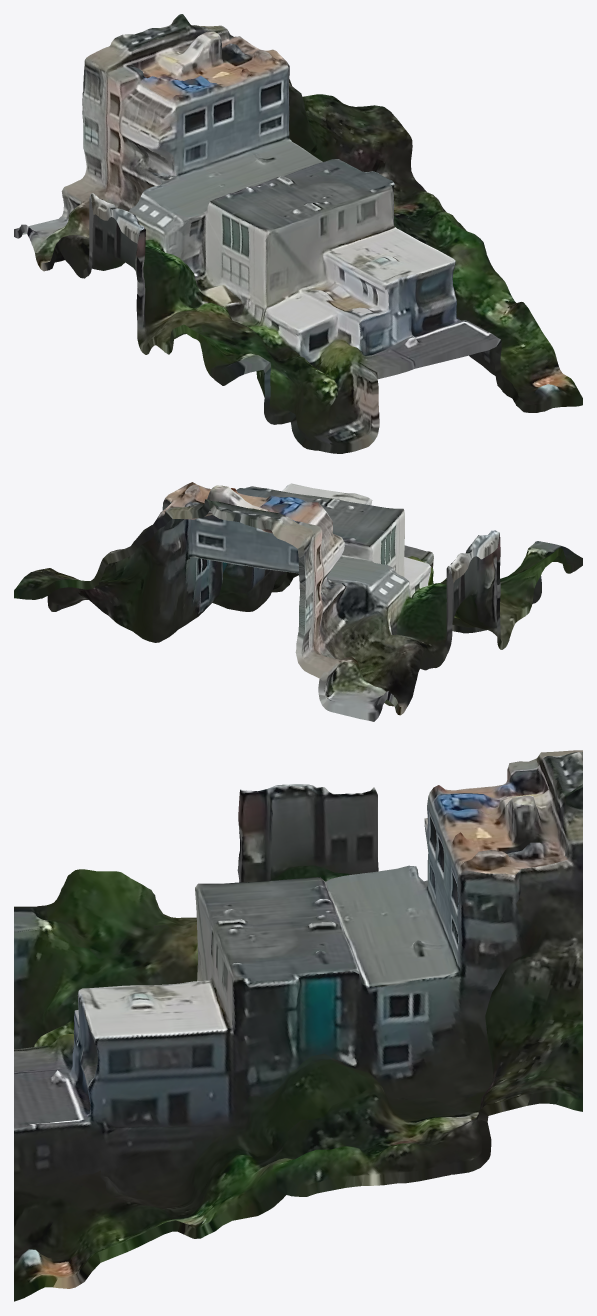
Rendered from z20-167757-405197-h0-yup-uvflip-v3-world.glb.
3 views of the same model, one above another, from view 1: azimuth 30°, elevation 25°; view 2: azimuth 150°, elevation 25°; view 3: azimuth 270°, elevation 25° (orthographic). The views are drawn at different scales.
Size of the model in its own units: 30.16 by 22.84 by 30.32.
1 material, 1 textured.
